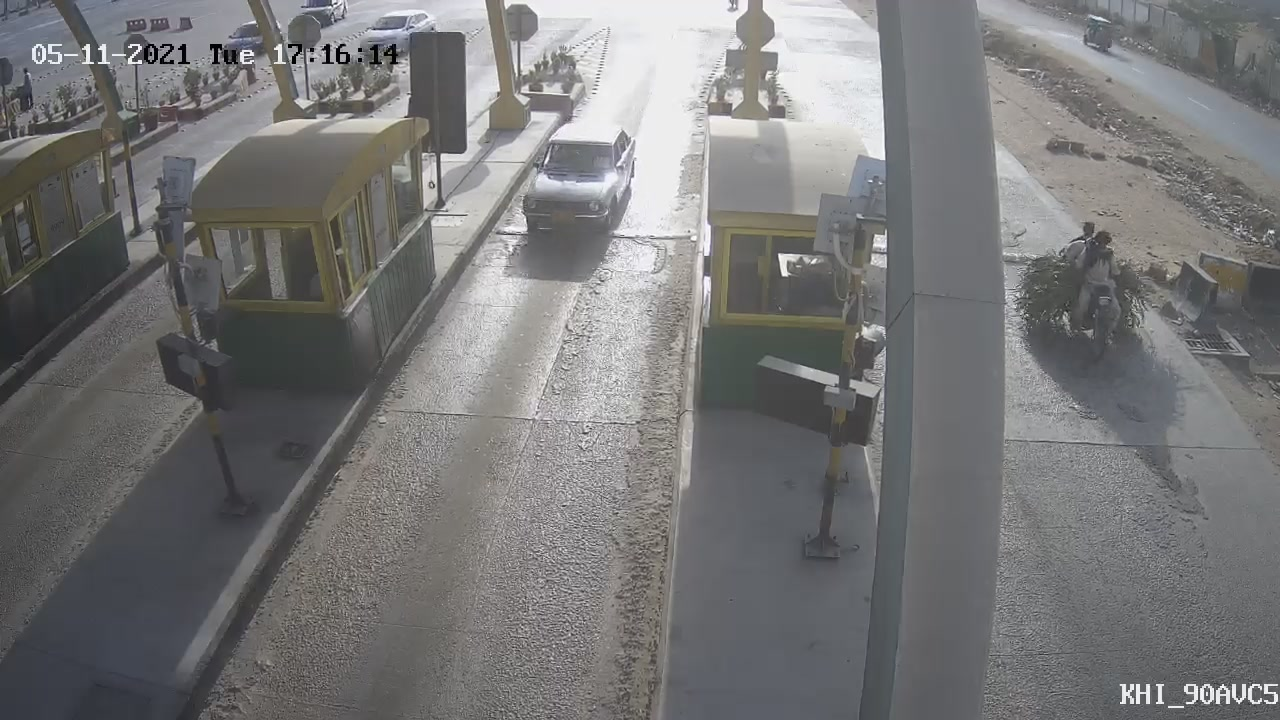F1: (503, 107, 651, 264)
